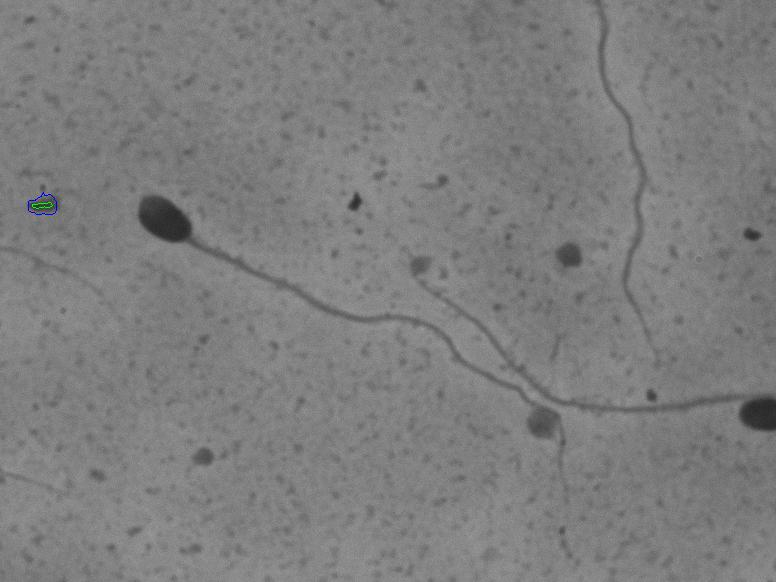Normal: (124, 179, 584, 529)
